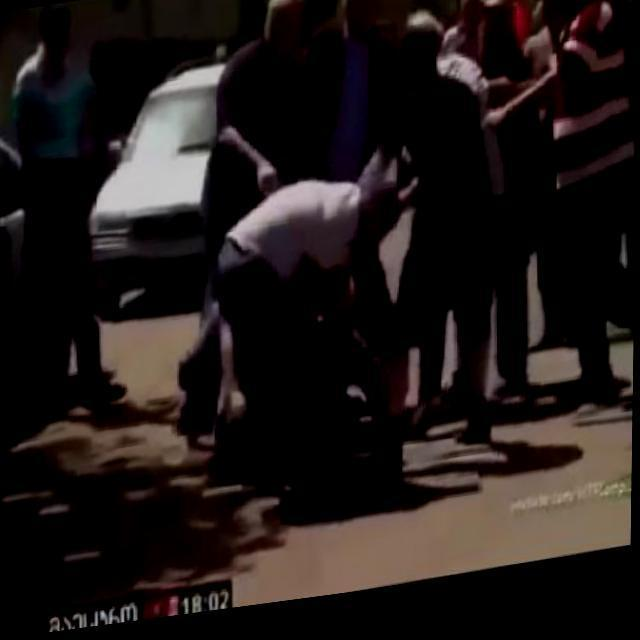fight: (203, 166, 424, 545)
